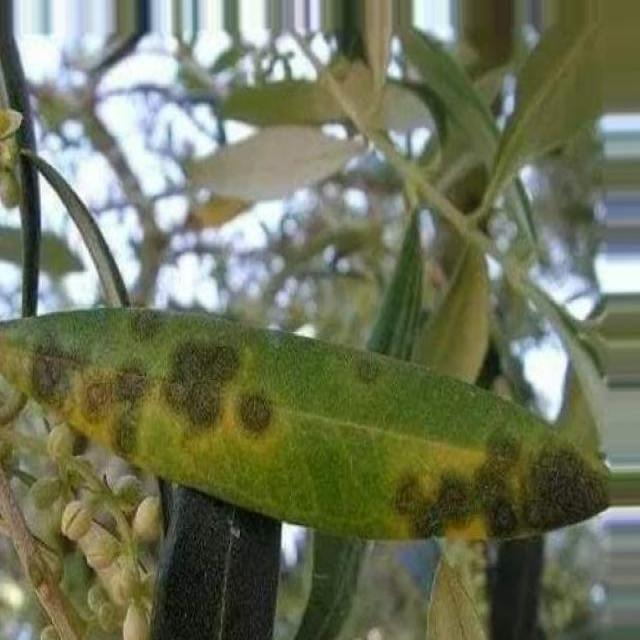OlivePeacockSpot: (0, 307, 608, 540)
